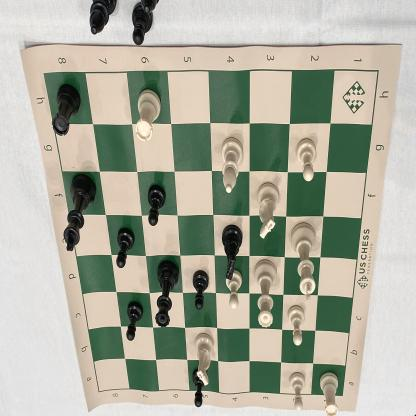black-king: (63, 172, 99, 255)
black-knight: (218, 223, 244, 280)
black-pawn: (146, 183, 167, 228), (115, 225, 136, 269), (190, 366, 210, 410), (191, 268, 211, 310), (125, 298, 144, 342)
black-queen: (153, 257, 180, 332)
black-rook: (49, 80, 84, 140)
white-bishop: (220, 136, 245, 196)
white-king: (288, 220, 318, 302)
white-knight: (254, 180, 281, 239), (193, 332, 216, 387)
white-pawn: (295, 137, 319, 185), (224, 269, 245, 313), (286, 303, 306, 349), (288, 370, 308, 414)
white-queen: (253, 257, 277, 330)
white-rook: (134, 88, 165, 147), (316, 367, 341, 416)
